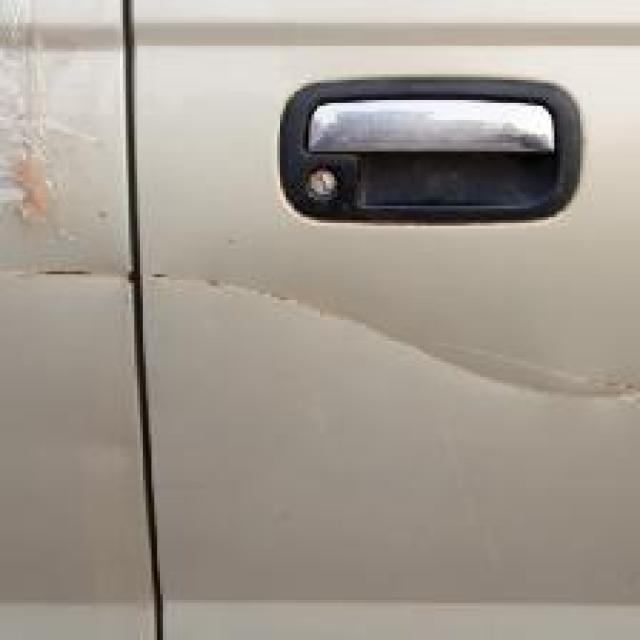door_dent_minor: (237, 274, 637, 451)
